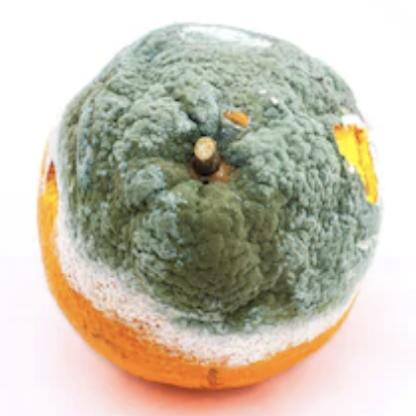rotten: (37, 23, 381, 397)
